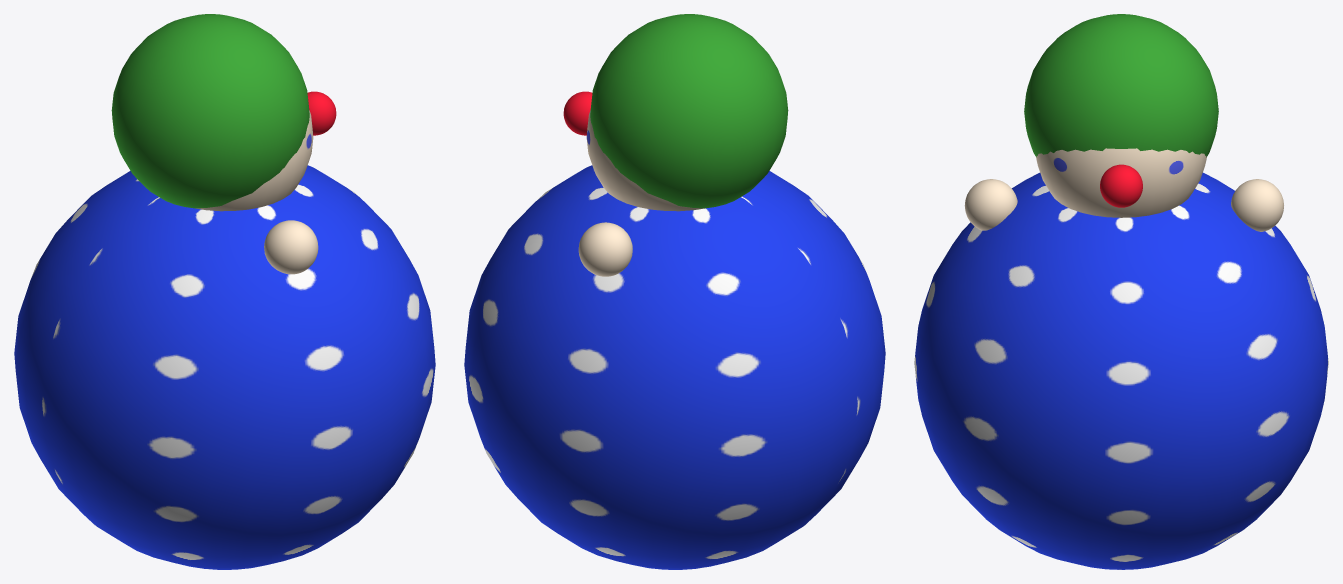
The model's file is clown_blue.gltf.
3 renders of one model, left to right at view 1: azimuth 30°, elevation 25°; view 2: azimuth 150°, elevation 25°; view 3: azimuth 270°, elevation 25°, orthographic.
Parts seen in each view (by area): view 1: Clown; view 2: Clown; view 3: Clown.
Part boxes in pixels (bbox=[...]): Clown: bbox=[14, 14, 435, 569]; Clown: bbox=[464, 14, 885, 569]; Clown: bbox=[914, 14, 1328, 569].
Size of the model in its own units: 2 by 2.77 by 2.
Materials: 1 (1 with a texture image).
